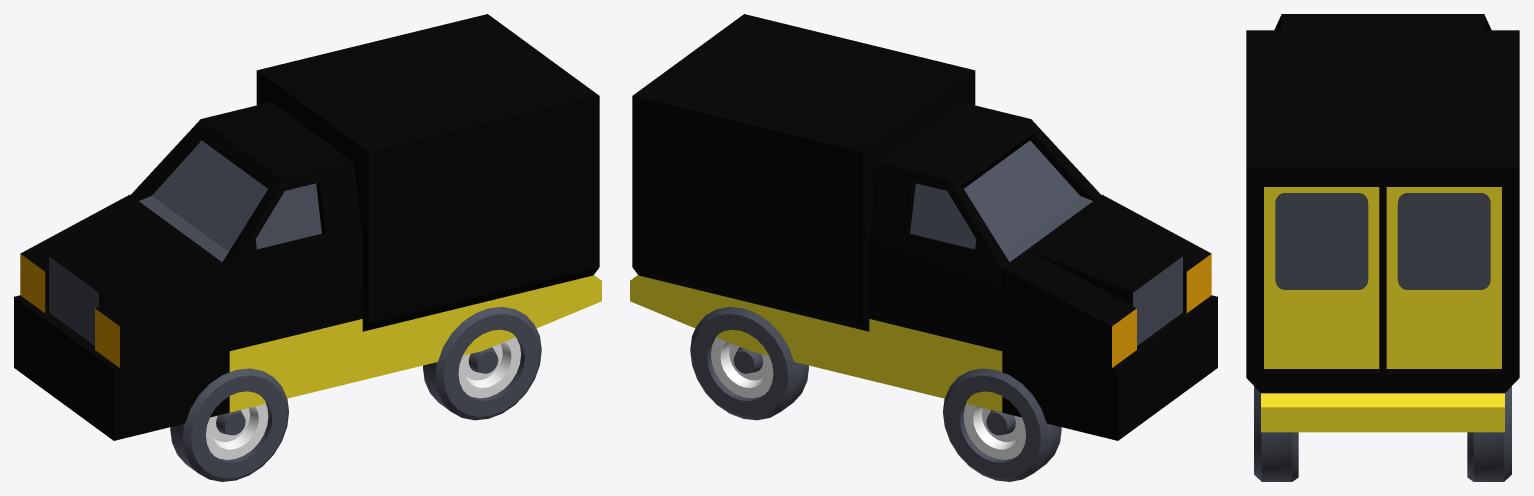
File: Camionette.fbx
The picture shows the model from 3 angles, left to right: view 1: azimuth 30°, elevation 25°; view 2: azimuth 150°, elevation 25°; view 3: azimuth 270°, elevation 25°; orthographic projection. The views are drawn at different scales.
Visible parts, largest first — view 1: trunk_truck_678, windshield_default_679, hood_luxurious%_680, wheel_truck_684, wheel_truck_685; view 2: trunk_truck_678, windshield_default_679, hood_luxurious%_680, wheel_truck_683, wheel_truck_682; view 3: trunk_truck_678, windshield_default_679, wheel_truck_683, wheel_truck_684.
Part boxes in pixels (box(x1,y1,x2,y2)): trunk_truck_678: box(256, 14, 601, 379); windshield_default_679: box(131, 102, 362, 412); hood_luxurious%_680: box(14, 194, 229, 440); wheel_truck_684: box(423, 306, 541, 420); wheel_truck_685: box(170, 368, 288, 481); trunk_truck_678: box(630, 14, 975, 379); windshield_default_679: box(869, 102, 1100, 412); hood_luxurious%_680: box(1002, 194, 1217, 440); wheel_truck_683: box(690, 306, 808, 420); wheel_truck_682: box(943, 368, 1061, 481); trunk_truck_678: box(1246, 30, 1519, 432); windshield_default_679: box(1274, 14, 1491, 30); wheel_truck_683: box(1467, 386, 1511, 481); wheel_truck_684: box(1254, 386, 1298, 481).
Bounding box in the file's own units: 36.7 × 21.71 × 14.56.
